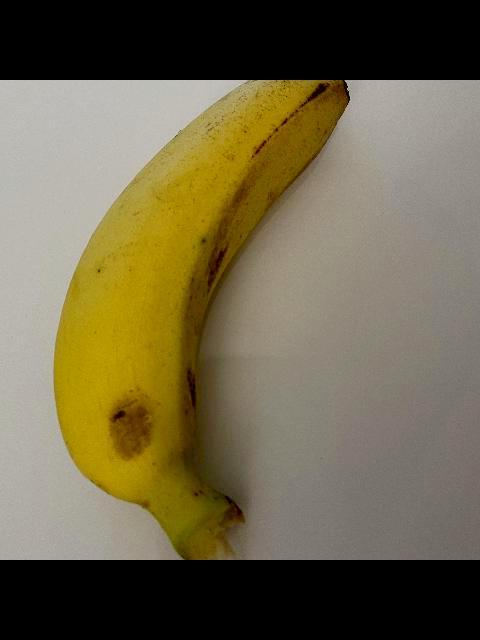banana: (51, 80, 351, 560)
